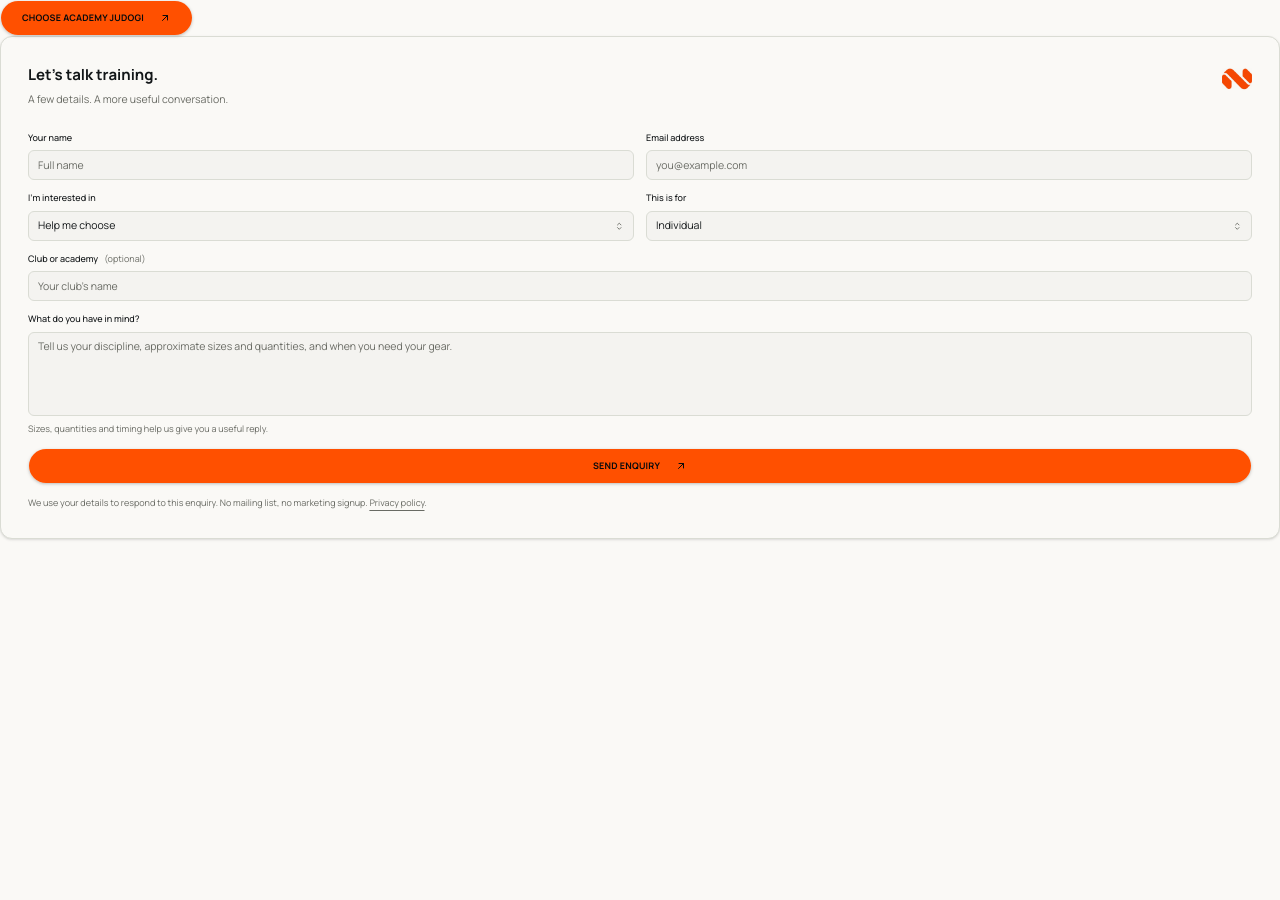
Test: inline enquiry form › only confirms success after the email endpoint accepts the enquiry
Type "Avery" into the field labelled "Your name" at (331, 165), box [28, 150, 634, 180]
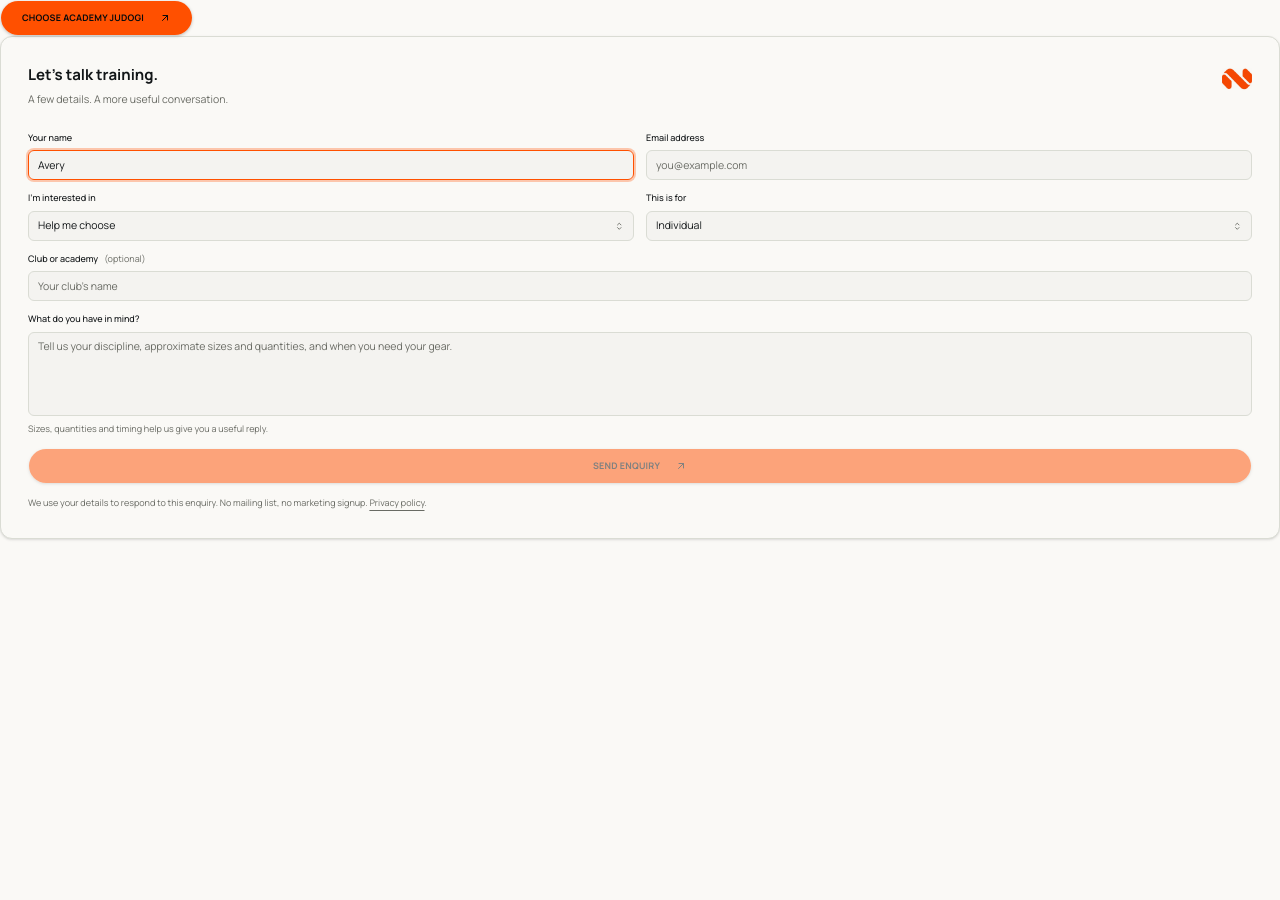
Type "avery@example.com" into the field labelled "Email address" at (949, 165), box [646, 150, 1252, 180]
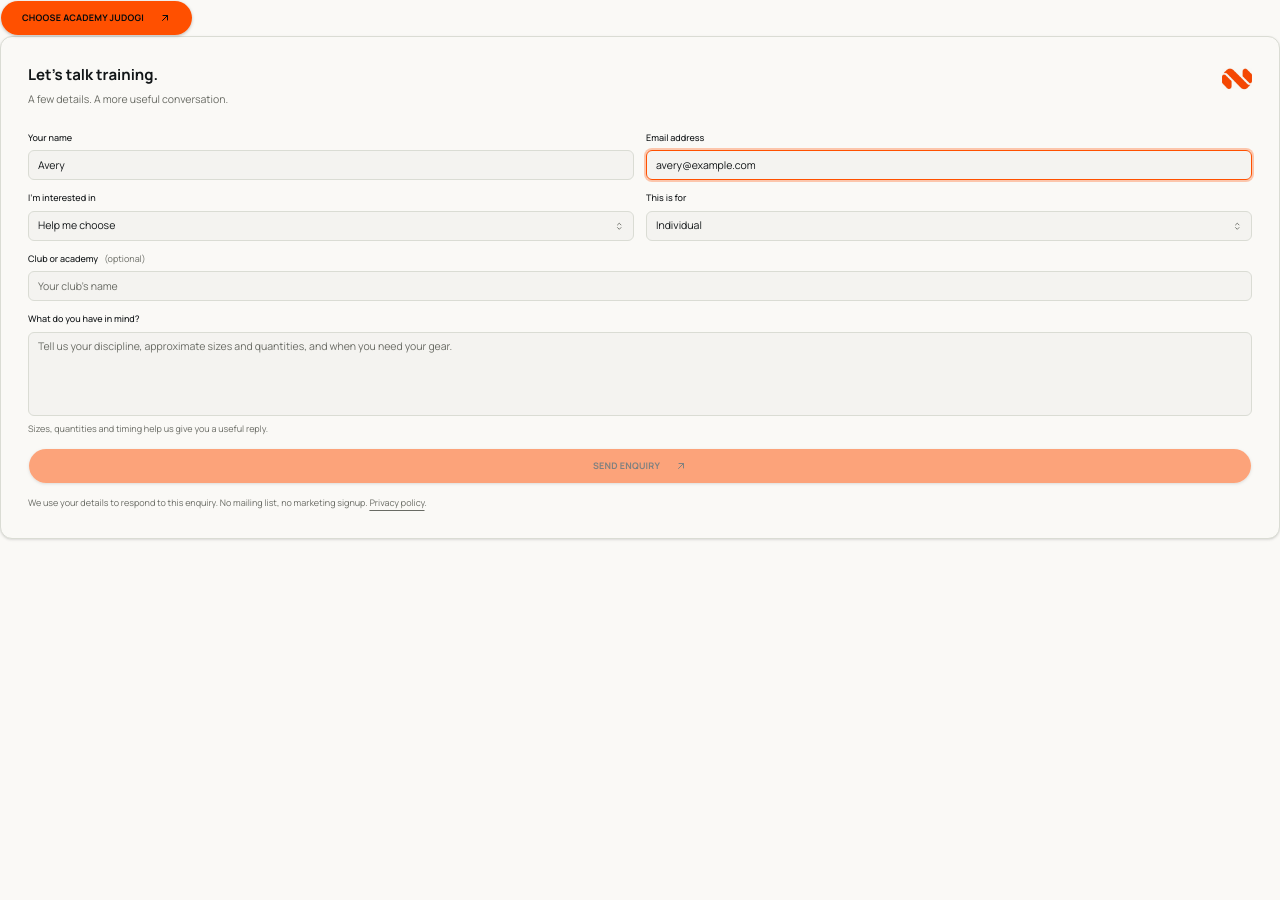
Type "We need twelve judo uniforms for a new academy class." into the text box labelled "What do you have in mind?" at (640, 374), box [28, 332, 1252, 416]
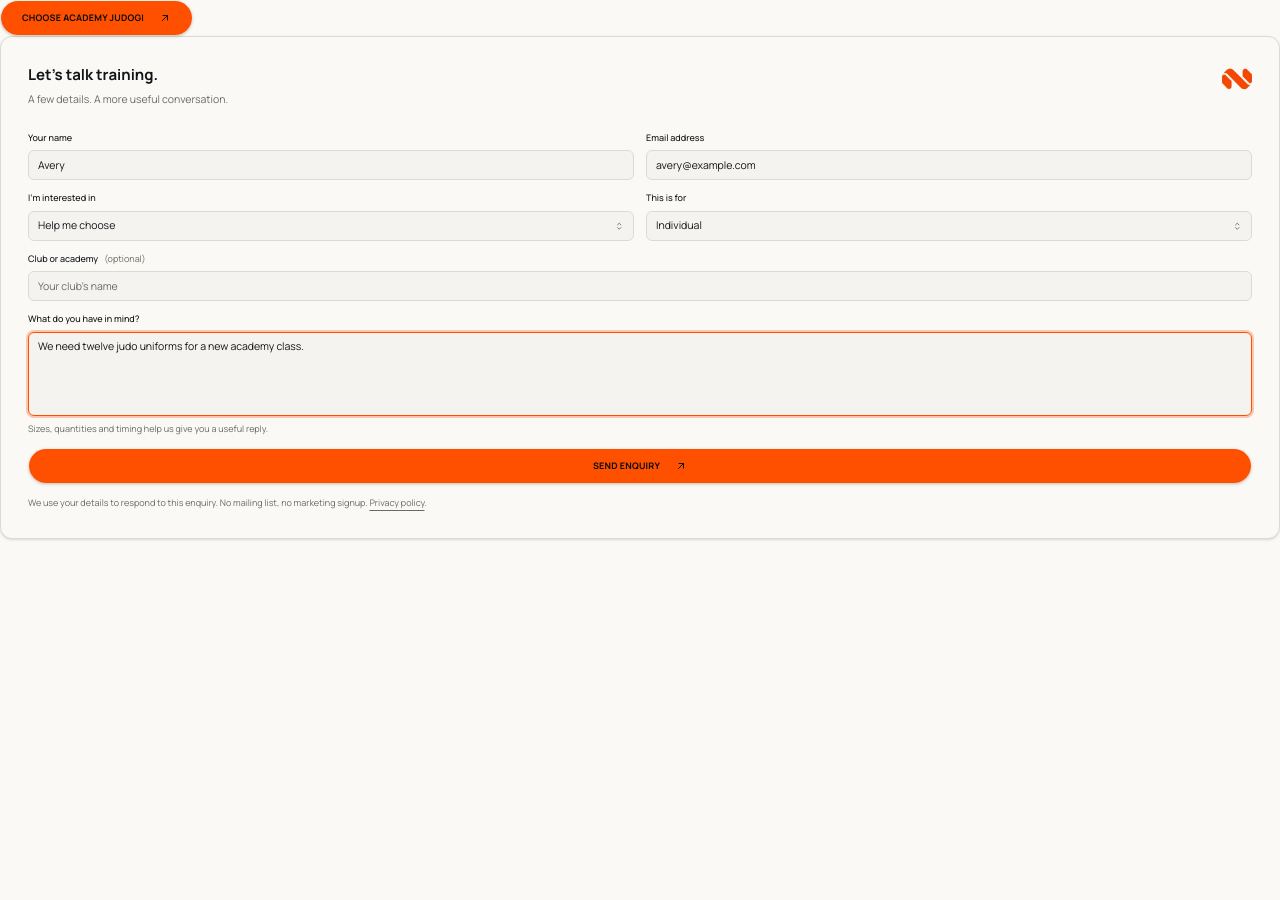
Click the button "Send enquiry" at (640, 466), box [28, 448, 1252, 484]
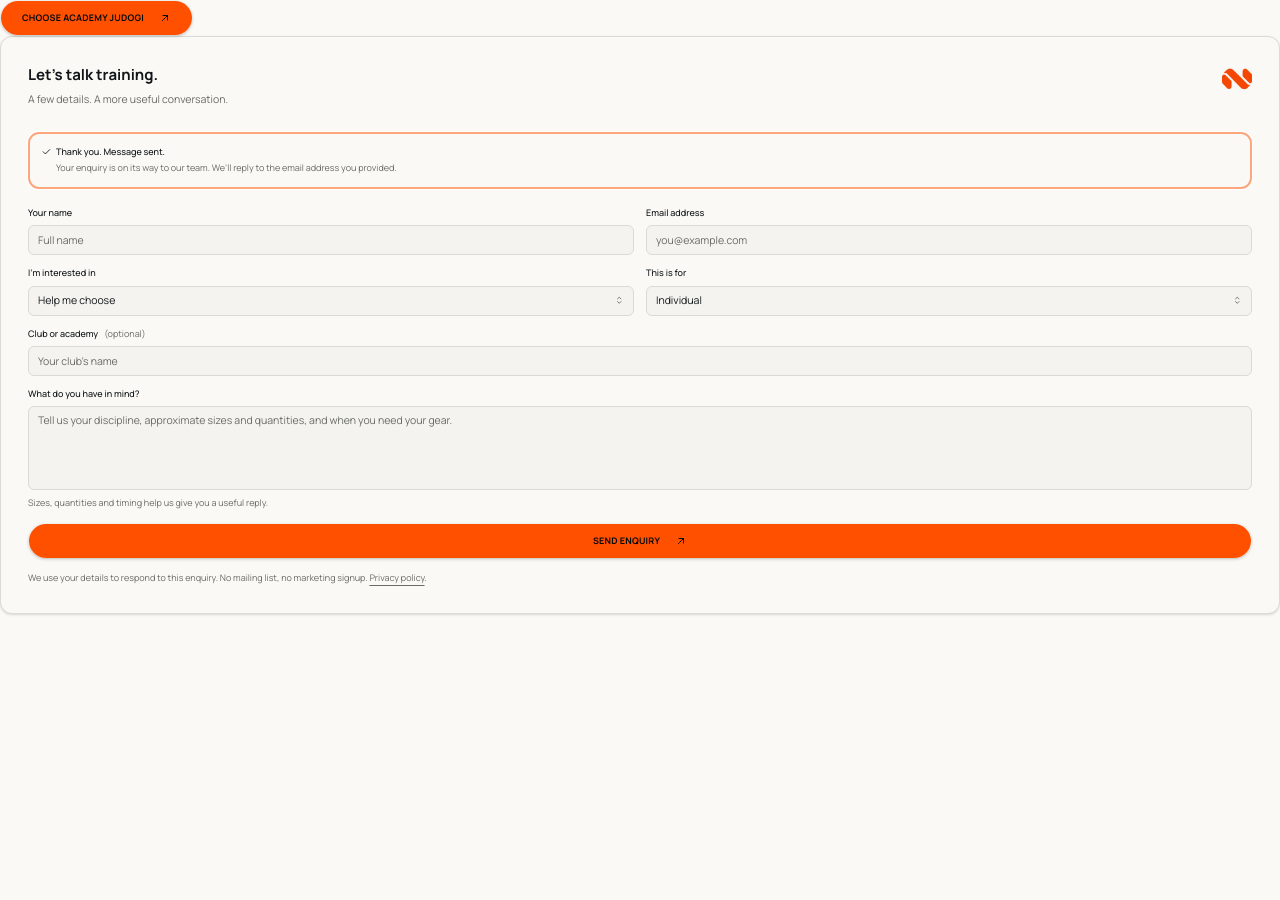
Result: the text "Thank you. Message sent." is shown at [56, 145, 165, 158]
Result: the field labelled "Your name" is empty at [28, 225, 634, 255]
